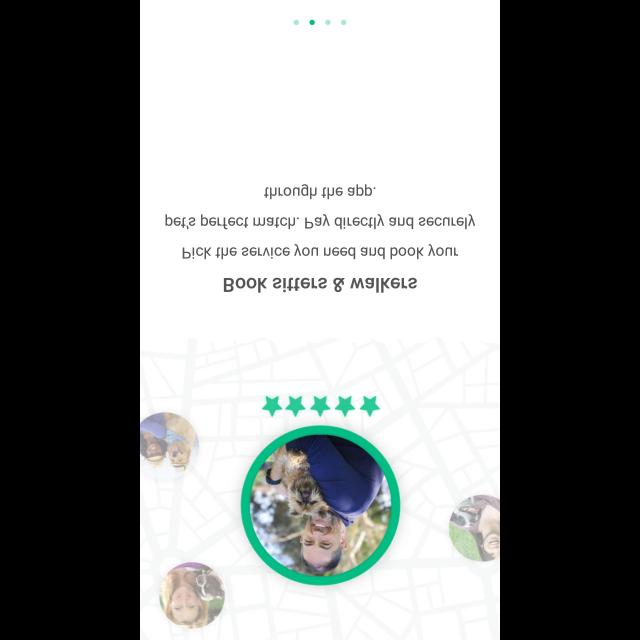icon: (262, 395, 381, 417)
image: (140, 337, 500, 639)
pageindicator: (294, 19, 346, 25)
text: (165, 214, 475, 230), (182, 244, 458, 260), (223, 277, 417, 293), (264, 184, 376, 200)
